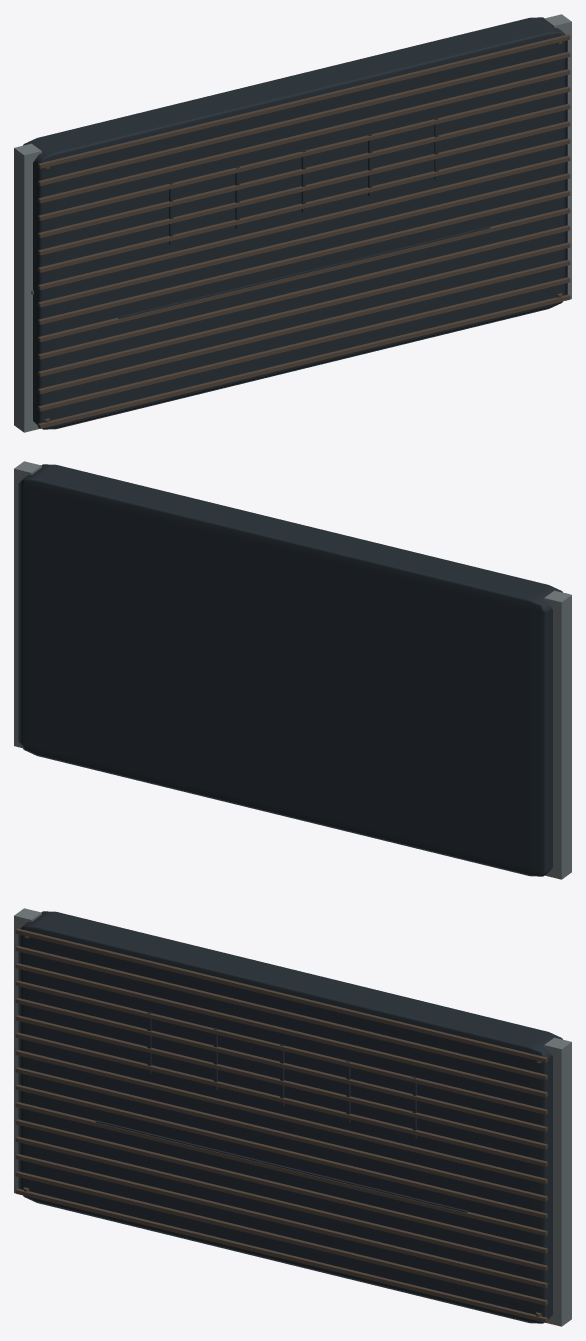
The model's file is furnace-door-3.glb.
3 views of the same model, one above another, from view 1: azimuth 30°, elevation 25°; view 2: azimuth 150°, elevation 25°; view 3: azimuth 330°, elevation 25° (orthographic).
Visible parts, largest first — view 1: furnace-door/2/KR-230-3; view 2: furnace-door/2/KR-230-3; view 3: furnace-door/2/KR-230-3.
Boxes of the visible parts, box(x1,y1,x2,y2) form: furnace-door/2/KR-230-3: box(14, 14, 571, 432); furnace-door/2/KR-230-3: box(14, 461, 571, 879); furnace-door/2/KR-230-3: box(14, 908, 571, 1326).
Size of the model in its own units: 6.2 by 3 by 0.44.
